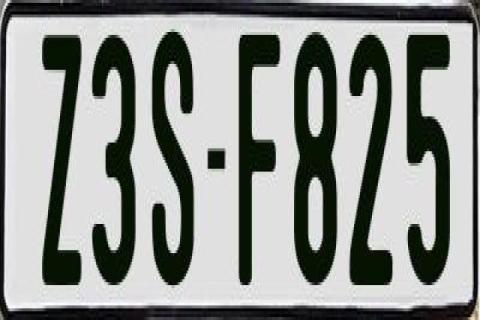0: (290, 29, 338, 285), (406, 26, 452, 282), (92, 29, 136, 282), (350, 35, 393, 291)
F: (236, 27, 284, 280)
S: (152, 29, 194, 297)
Z: (40, 29, 88, 282)
